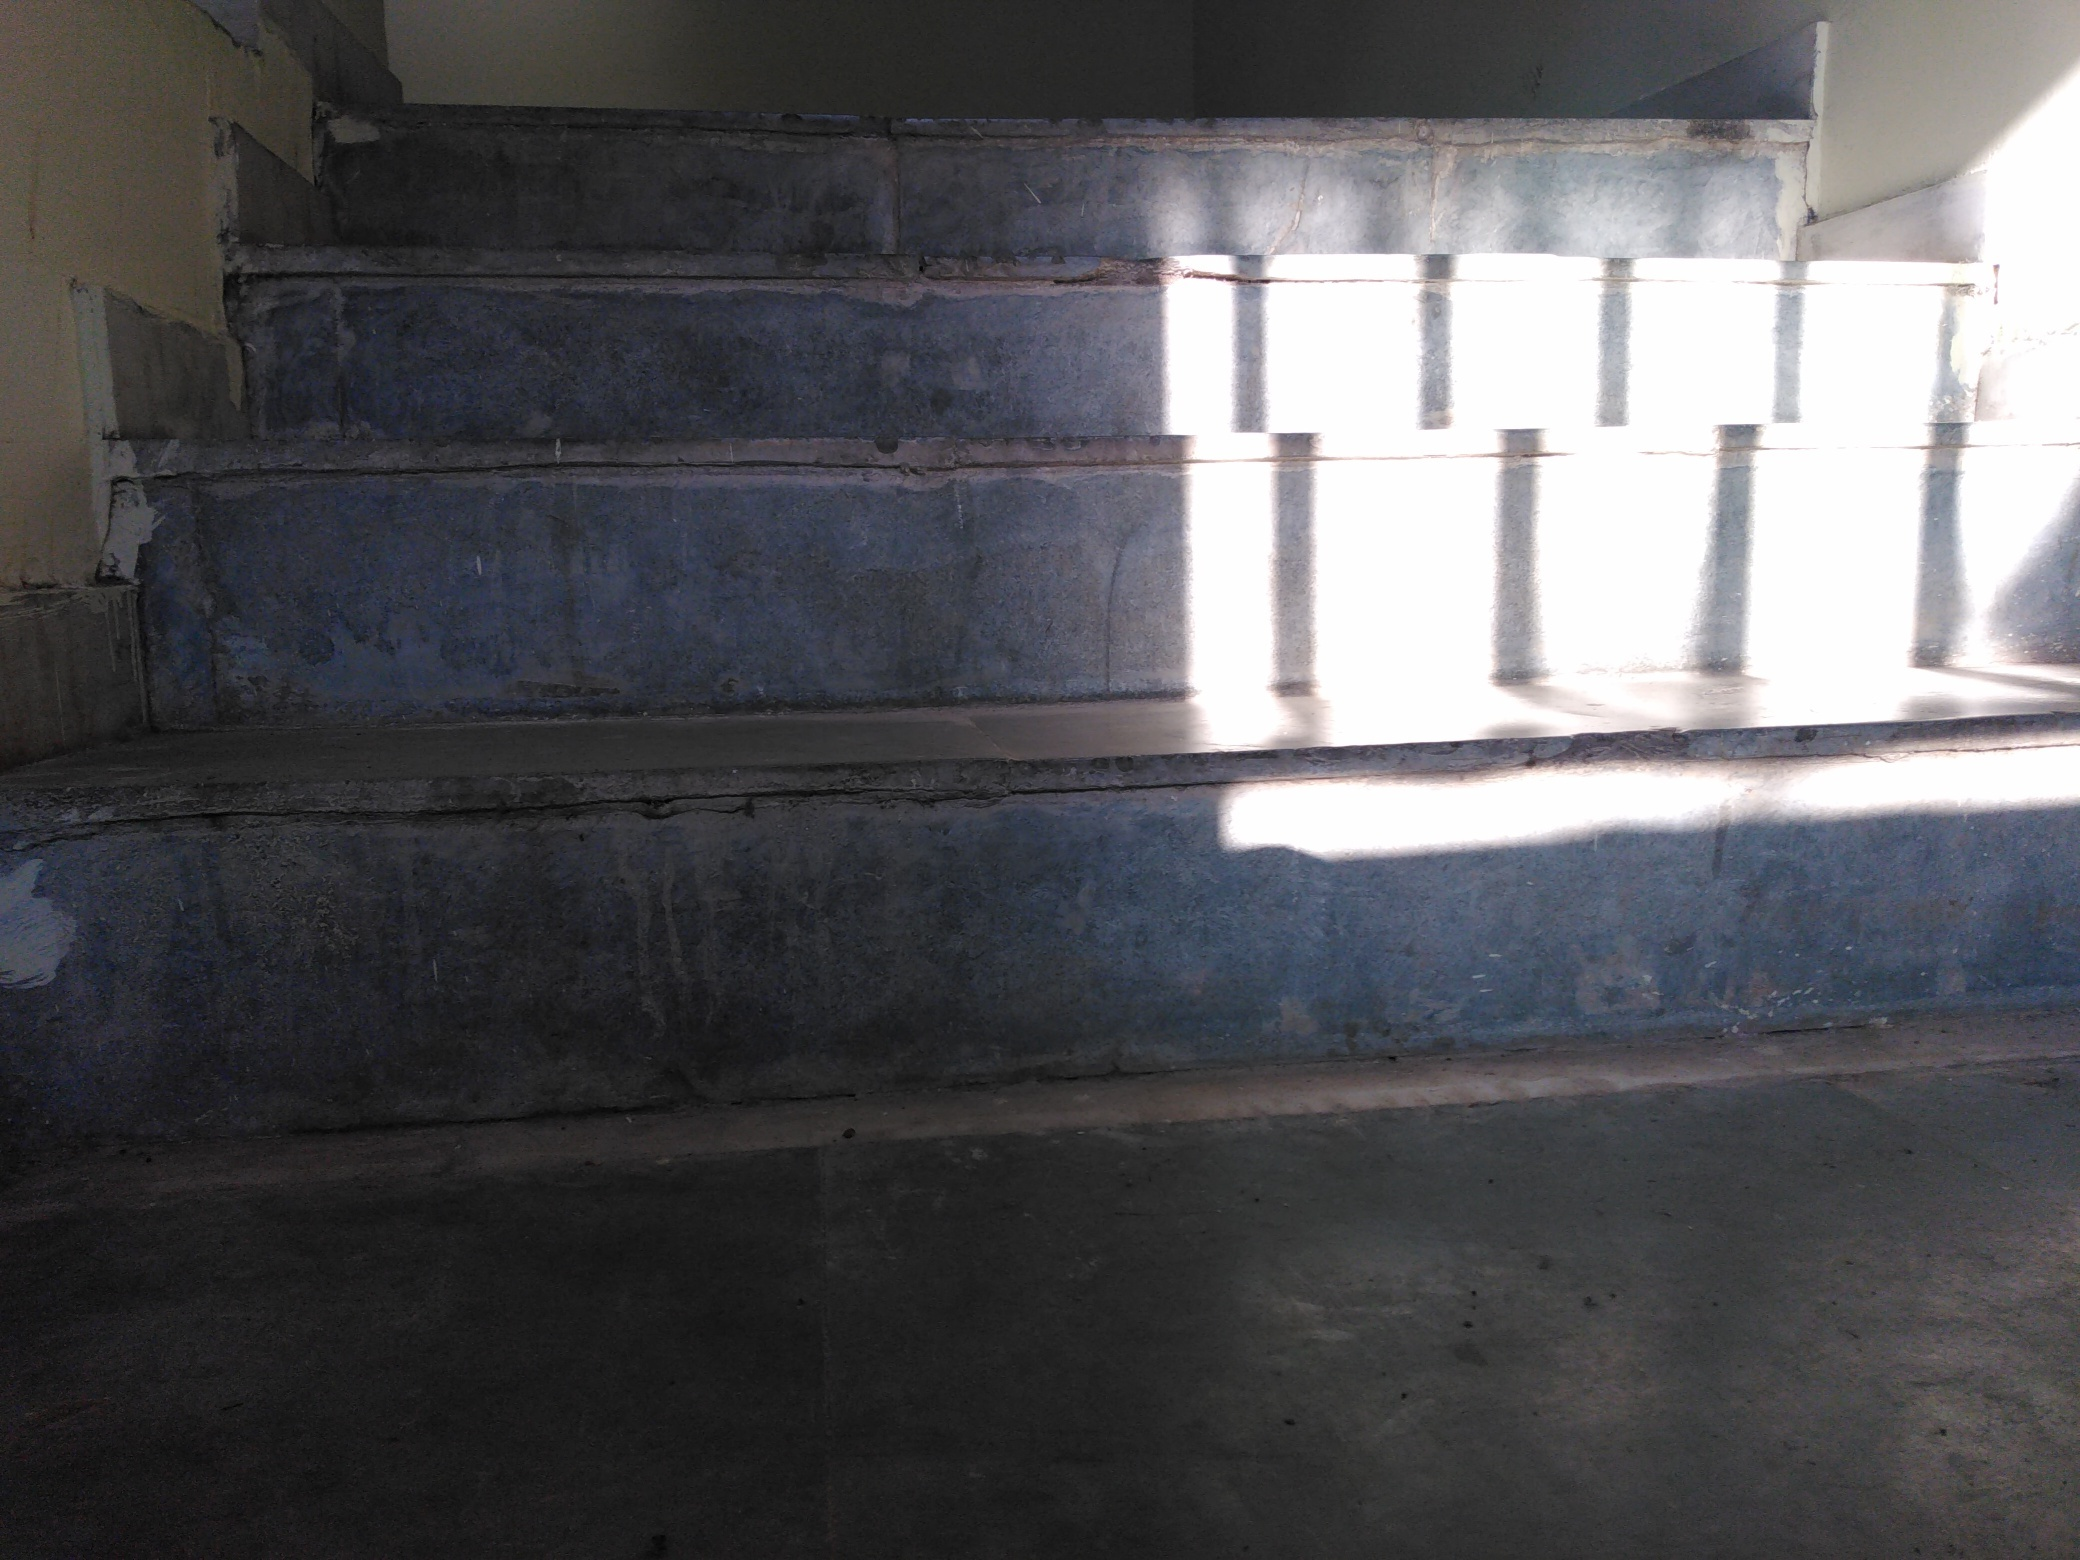stairs_up: (15, 107, 2070, 1049)
